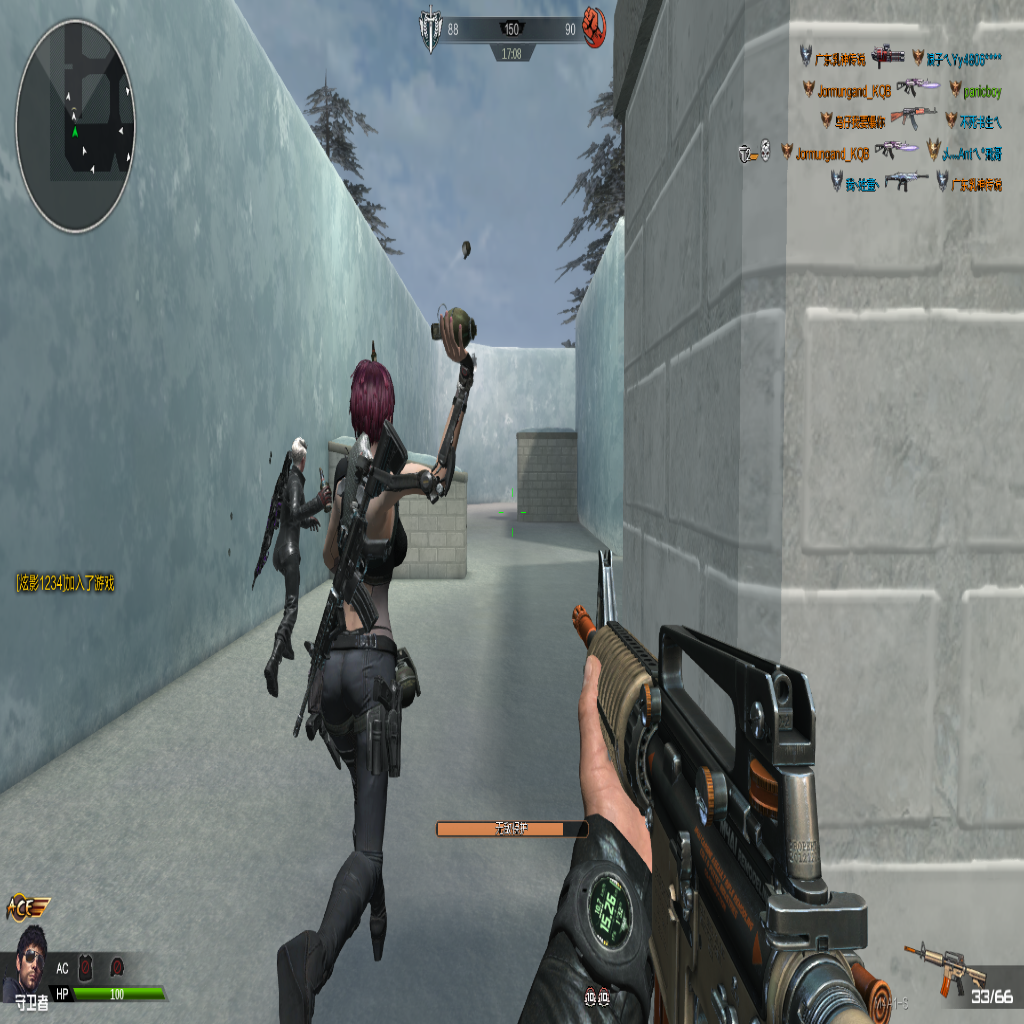ct: (257, 435, 333, 720)
